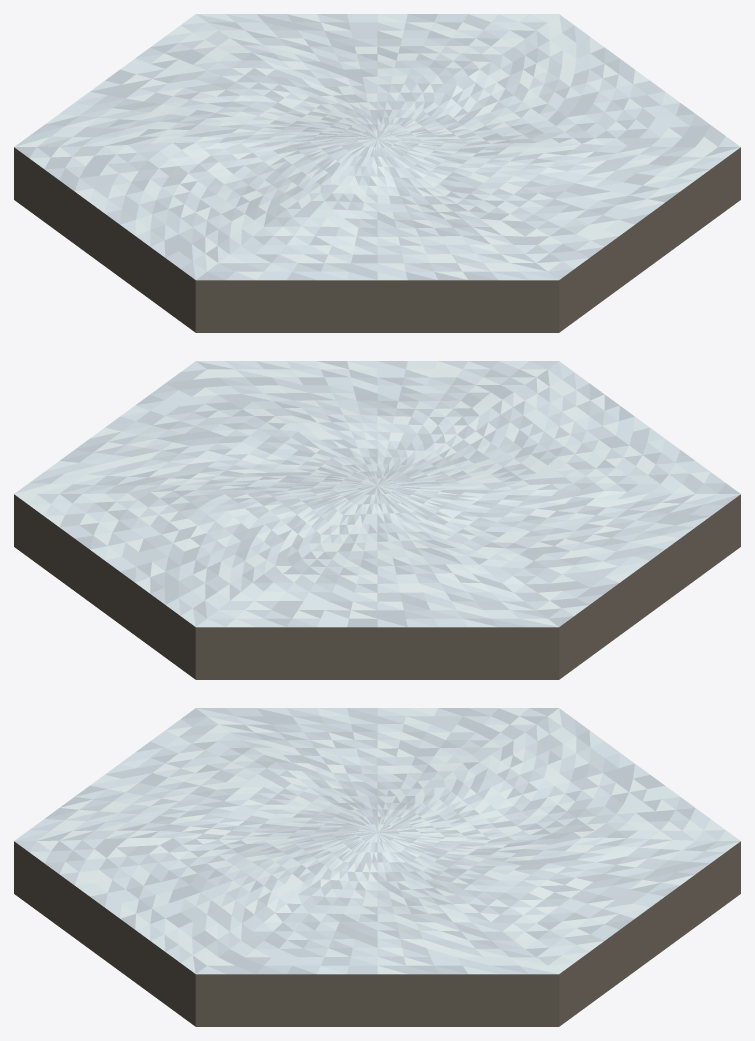
The model's file is TERRAIN_SNOW_v02.fbx.
The picture shows the model from 3 angles, top to bottom: view 1: azimuth 30°, elevation 25°; view 2: azimuth 150°, elevation 25°; view 3: azimuth 270°, elevation 25°; orthographic projection.
Parts seen in each view (by area): view 1: TERRAIN_SNOW_v02; view 2: TERRAIN_SNOW_v02; view 3: TERRAIN_SNOW_v02.
Boxes of the visible parts, left/top/right/bottom form: TERRAIN_SNOW_v02: left=14, top=14, right=740, bottom=332; TERRAIN_SNOW_v02: left=14, top=361, right=740, bottom=679; TERRAIN_SNOW_v02: left=14, top=708, right=740, bottom=1026.
Size of the model in its own units: 173 by 18.58 by 200.
